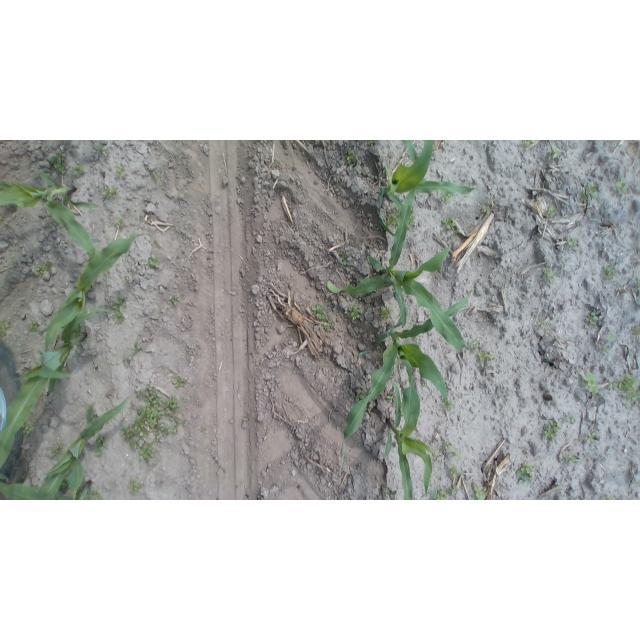Maize: (326, 181, 471, 356), (339, 291, 474, 474), (0, 304, 110, 469), (45, 231, 154, 351), (373, 141, 475, 240), (38, 396, 134, 500), (1, 171, 102, 264), (380, 358, 432, 500), (1, 472, 72, 499), (379, 486, 437, 500)
Weeds: (120, 384, 184, 461), (311, 302, 334, 330), (616, 374, 638, 403), (112, 296, 129, 325), (578, 371, 598, 395), (49, 149, 67, 175), (516, 461, 535, 485), (579, 182, 599, 203), (94, 434, 111, 458), (541, 420, 559, 441), (442, 218, 461, 237), (48, 442, 65, 462), (613, 179, 631, 197), (128, 476, 145, 494), (85, 403, 99, 424), (346, 304, 363, 321), (585, 308, 601, 326), (603, 262, 617, 281), (172, 375, 189, 390), (477, 350, 495, 364), (473, 483, 488, 499), (27, 320, 43, 335), (448, 466, 465, 480), (129, 340, 143, 357), (103, 184, 120, 198), (68, 165, 87, 177), (542, 268, 557, 283), (56, 479, 71, 494), (441, 396, 455, 412), (146, 254, 160, 270), (35, 262, 52, 275), (1, 319, 12, 339), (386, 209, 398, 227), (87, 488, 105, 500), (440, 191, 454, 206), (95, 144, 109, 159), (379, 306, 393, 321), (545, 204, 560, 218), (355, 389, 369, 404), (547, 147, 561, 162), (168, 293, 181, 308), (344, 151, 357, 166), (115, 164, 127, 180), (439, 441, 453, 454), (243, 412, 258, 424), (565, 235, 577, 250), (116, 217, 129, 230), (23, 422, 35, 436), (340, 251, 350, 267), (585, 431, 598, 443), (564, 454, 578, 465), (602, 344, 613, 356), (468, 341, 481, 351), (408, 211, 416, 227), (522, 140, 538, 148), (437, 489, 448, 500), (385, 391, 395, 403), (536, 320, 548, 330), (453, 449, 463, 461), (480, 205, 491, 215), (567, 414, 577, 425), (449, 487, 459, 498), (607, 330, 617, 340), (367, 140, 377, 149), (630, 326, 638, 337), (600, 495, 617, 500), (608, 379, 616, 389), (152, 172, 160, 181), (199, 427, 208, 435), (261, 433, 269, 442), (422, 379, 429, 388), (636, 277, 640, 291), (123, 276, 130, 284), (540, 359, 548, 365), (20, 474, 27, 480)
